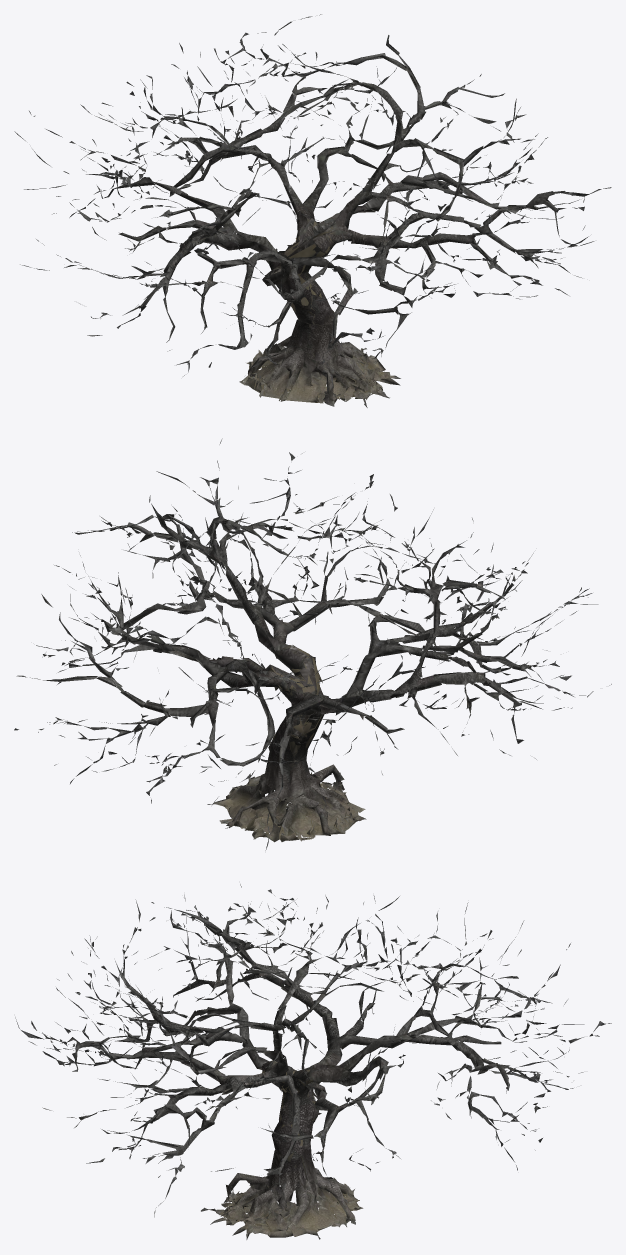
Rendered from tree_twisted.glb.
3 views of the same model, one above another, from view 1: azimuth 30°, elevation 25°; view 2: azimuth 150°, elevation 25°; view 3: azimuth 270°, elevation 25° (orthographic). The views are drawn at different scales.
Parts seen in each view (by area): view 1: Mesh_0; view 2: Mesh_0; view 3: Mesh_0.
Part boxes in pixels (x1,y1,x2,y2): Mesh_0: (14, 14, 611, 407); Mesh_0: (14, 438, 611, 850); Mesh_0: (15, 884, 611, 1239).
Size of the model in its own units: 12.36 by 7.45 by 13.
Materials: 1 (1 with a texture image).
